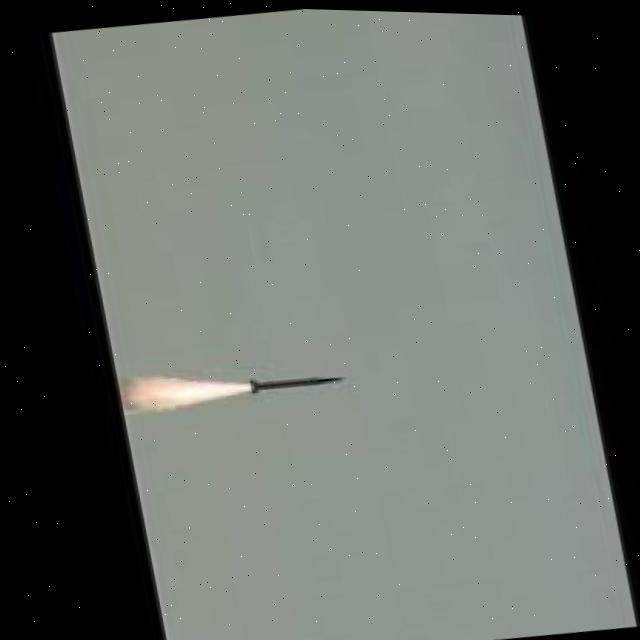missile: (238, 359, 347, 402)
